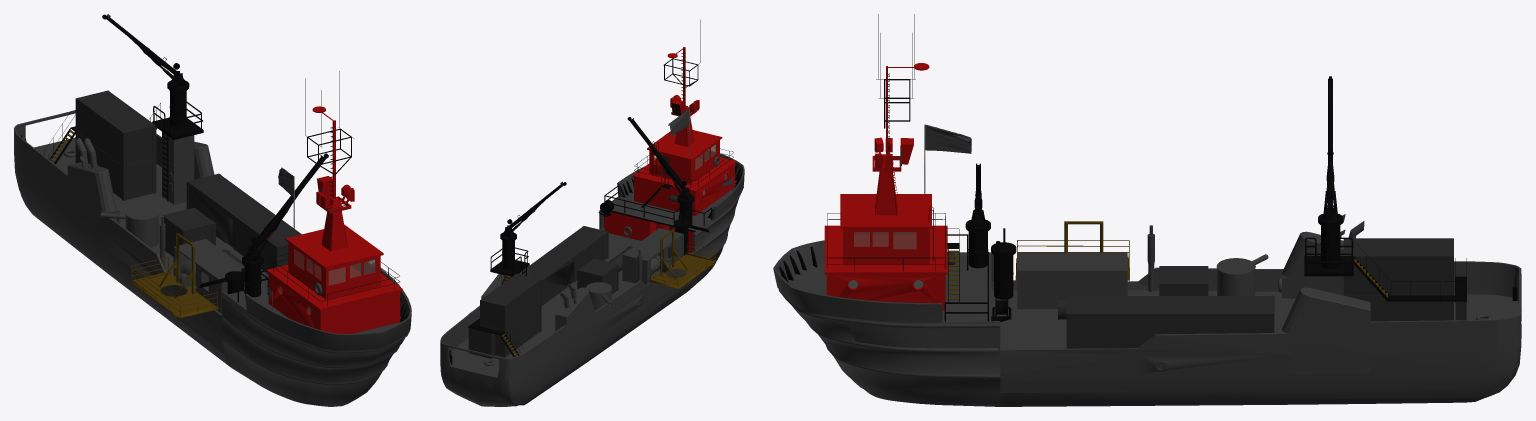
The model's file is Shipboatsmall1.obj.
3 views of the same model, side by side, from view 1: azimuth 30°, elevation 25°; view 2: azimuth 150°, elevation 25°; view 3: azimuth 270°, elevation 25° (orthographic). The views are drawn at different scales.
Visible parts, largest first — view 1: (null)_(null)_boat_(null)_(null)_boat_boat_(null)_(null)_boat_(_, (null)_(null)_boat1_(null)_(null)_boat1_boat1_(null)_(null)_boa_, (null)_(null)_Croco_,Black_Ski_(null)_(null)_Croco_,Black_Ski_C_, (null)_(null)_,Black_(null)_(null)_,Black_,Black_(null)_(null)__, (null)_(null)_boat2_(null)_(null)_boat2_boat2_(null)_(null)_boa_, (null)_(null)_orange_(null)_(null)_orange_orange_(null)_(null)__, (null)_(null)_orange+MASK_(null)_(null)_orange+MASK_orange+MASK_, (null)_(null)_window_(null)_(null)_window_window_(null)_(null)__, (null)_(null)_,Black_1_(null)_(null)_,Black_1_,Black_1_(null)_(_; view 2: (null)_(null)_boat_(null)_(null)_boat_boat_(null)_(null)_boat_(_, (null)_(null)_boat1_(null)_(null)_boat1_boat1_(null)_(null)_boa_, (null)_(null)_Croco_,Black_Ski_(null)_(null)_Croco_,Black_Ski_C_, (null)_(null)_,Black_(null)_(null)_,Black_,Black_(null)_(null)__, (null)_(null)_boat2_(null)_(null)_boat2_boat2_(null)_(null)_boa_, (null)_(null)_orange_(null)_(null)_orange_orange_(null)_(null)__, (null)_(null)_orange+MASK_(null)_(null)_orange+MASK_orange+MASK_, (null)_(null)_,Black_1_(null)_(null)_,Black_1_,Black_1_(null)_(_, (null)_(null)_Material__54_(null)_(null)_Material__54_Material__; view 3: (null)_(null)_boat_(null)_(null)_boat_boat_(null)_(null)_boat_(_, (null)_(null)_boat1_(null)_(null)_boat1_boat1_(null)_(null)_boa_, (null)_(null)_Croco_,Black_Ski_(null)_(null)_Croco_,Black_Ski_C_, (null)_(null)_,Black_(null)_(null)_,Black_,Black_(null)_(null)__, (null)_(null)_boat2_(null)_(null)_boat2_boat2_(null)_(null)_boa_, (null)_(null)_orange_(null)_(null)_orange_orange_(null)_(null)__, (null)_(null)_window_(null)_(null)_window_window_(null)_(null)__, (null)_(null)_Material__54_(null)_(null)_Material__54_Material__.
Boxes of the visible parts, x1,y1,x2,y2 form: (null)_(null)_boat_(null)_(null)_boat_boat_(null)_(null)_boat_(_: [14, 110, 411, 406]; (null)_(null)_boat1_(null)_(null)_boat1_boat1_(null)_(null)_boa_: [75, 90, 301, 283]; (null)_(null)_Croco_,Black_Ski_(null)_(null)_Croco_,Black_Ski_C_: [266, 106, 402, 334]; (null)_(null)_,Black_(null)_(null)_,Black_,Black_(null)_(null)__: [21, 14, 408, 322]; (null)_(null)_boat2_(null)_(null)_boat2_boat2_(null)_(null)_boa_: [34, 137, 400, 333]; (null)_(null)_orange_(null)_(null)_orange_orange_(null)_(null)__: [50, 127, 219, 318]; (null)_(null)_orange+MASK_(null)_(null)_orange+MASK_orange+MASK_: [135, 273, 215, 314]; (null)_(null)_window_(null)_(null)_window_window_(null)_(null)__: [279, 249, 375, 314]; (null)_(null)_,Black_1_(null)_(null)_,Black_1_,Black_1_(null)_(_: [305, 71, 353, 175]; (null)_(null)_boat_(null)_(null)_boat_boat_(null)_(null)_boat_(_: [440, 106, 744, 406]; (null)_(null)_boat1_(null)_(null)_boat1_boat1_(null)_(null)_boa_: [468, 156, 679, 358]; (null)_(null)_Croco_,Black_Ski_(null)_(null)_Croco_,Black_Ski_C_: [604, 47, 736, 252]; (null)_(null)_,Black_(null)_(null)_,Black_,Black_(null)_(null)__: [449, 53, 742, 364]; (null)_(null)_boat2_(null)_(null)_boat2_boat2_(null)_(null)_boa_: [450, 178, 736, 377]; (null)_(null)_orange_(null)_(null)_orange_orange_(null)_(null)__: [502, 187, 716, 355]; (null)_(null)_orange+MASK_(null)_(null)_orange+MASK_orange+MASK_: [651, 254, 712, 286]; (null)_(null)_,Black_1_(null)_(null)_,Black_1_,Black_1_(null)_(_: [663, 20, 700, 87]; (null)_(null)_Material__54_(null)_(null)_Material__54_Material__: [668, 108, 689, 136]; (null)_(null)_boat_(null)_(null)_boat_boat_(null)_(null)_boat_(_: [773, 146, 1521, 406]; (null)_(null)_boat1_(null)_(null)_boat1_boat1_(null)_(null)_boa_: [947, 238, 1466, 348]; (null)_(null)_Croco_,Black_Ski_(null)_(null)_Croco_,Black_Ski_C_: [824, 63, 955, 310]; (null)_(null)_,Black_(null)_(null)_,Black_,Black_(null)_(null)__: [779, 73, 1517, 322]; (null)_(null)_boat2_(null)_(null)_boat2_boat2_(null)_(null)_boa_: [787, 253, 1521, 348]; (null)_(null)_orange_(null)_(null)_orange_orange_(null)_(null)__: [948, 221, 1387, 299]; (null)_(null)_window_(null)_(null)_window_window_(null)_(null)__: [848, 232, 923, 288]; (null)_(null)_Material__54_(null)_(null)_Material__54_Material__: [925, 124, 971, 153].
Size of the model in its own units: 7.92 by 14.75 by 27.3.
